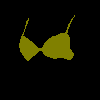reggiseno: (19, 15, 75, 61)
